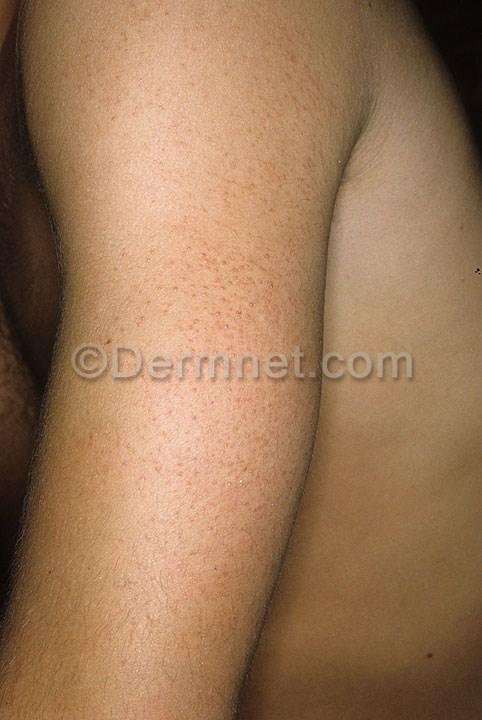edema 1: (98, 92, 350, 538)
